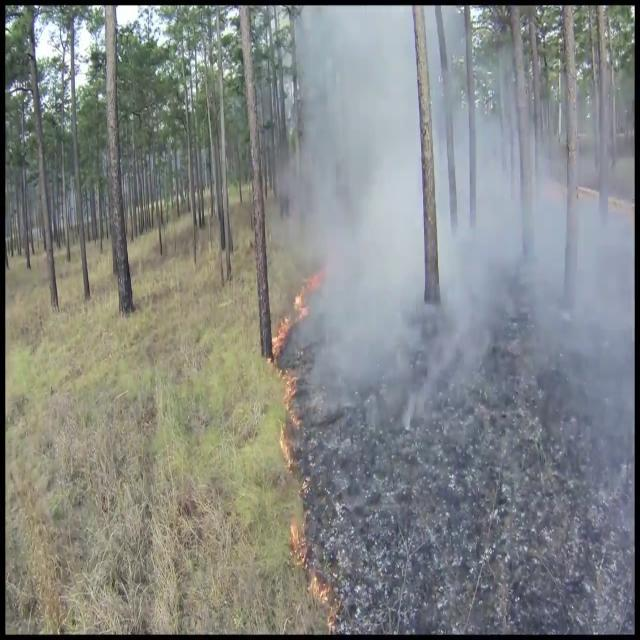Smoke: (275, 11, 633, 499)
